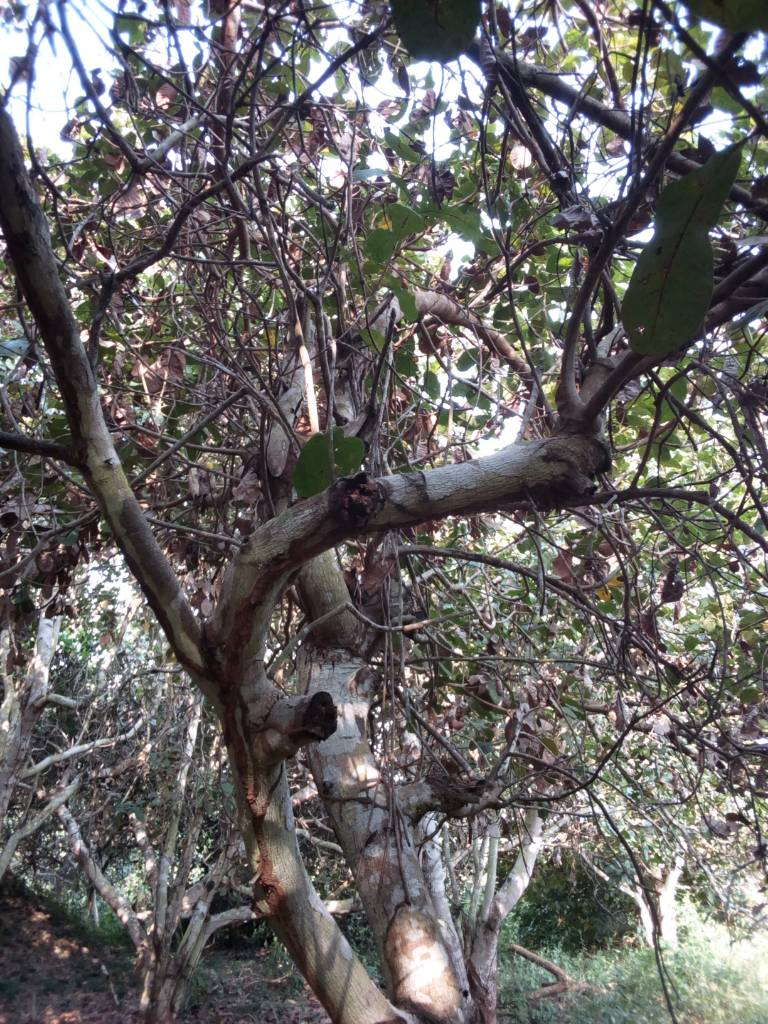Termites: (225, 594, 282, 925)
